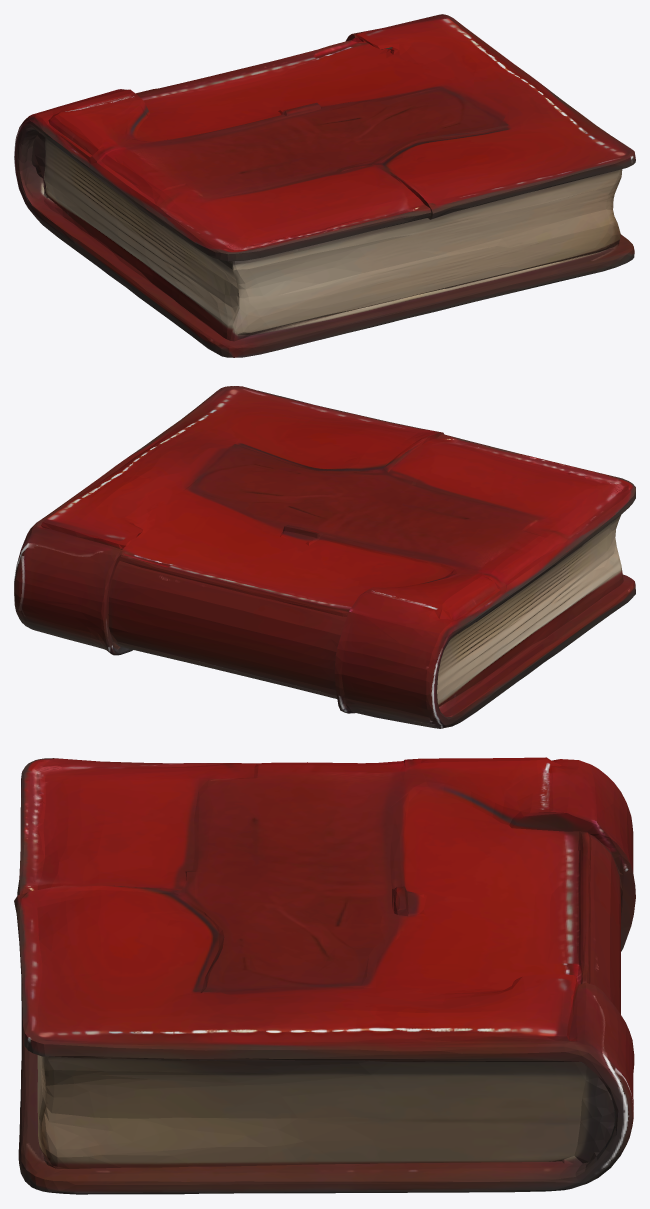
3 views of the same model, one above another, from view 1: azimuth 30°, elevation 25°; view 2: azimuth 150°, elevation 25°; view 3: azimuth 270°, elevation 25° (orthographic). The views are drawn at different scales.
Parts seen in each view (by area): view 1: notebook_6.obj; view 2: notebook_6.obj; view 3: notebook_6.obj.
Part boxes in pixels (x1,y1,x2,y2): notebook_6.obj: [14, 14, 635, 357]; notebook_6.obj: [14, 386, 635, 728]; notebook_6.obj: [14, 757, 635, 1194].
Size of the model in its own units: 0.215 by 0.0584 by 0.1937.
Materials: 1 (1 with a texture image).
